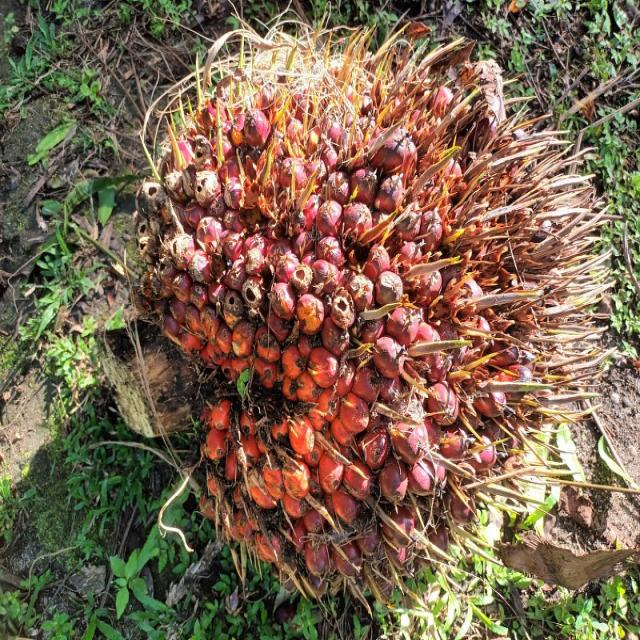fraksi 3: (25, 8, 509, 614)
